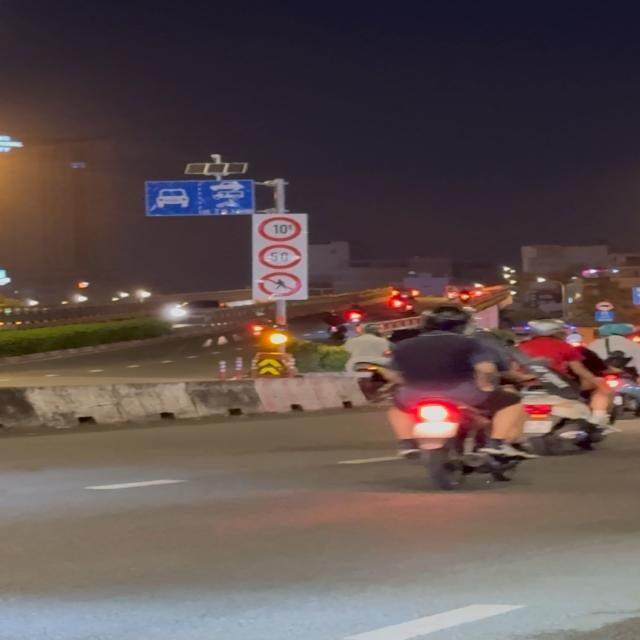Bien bao cam nguoi di bo: (258, 270, 307, 297)
Bien bao toc do toi da cho phep: (257, 244, 304, 270)
